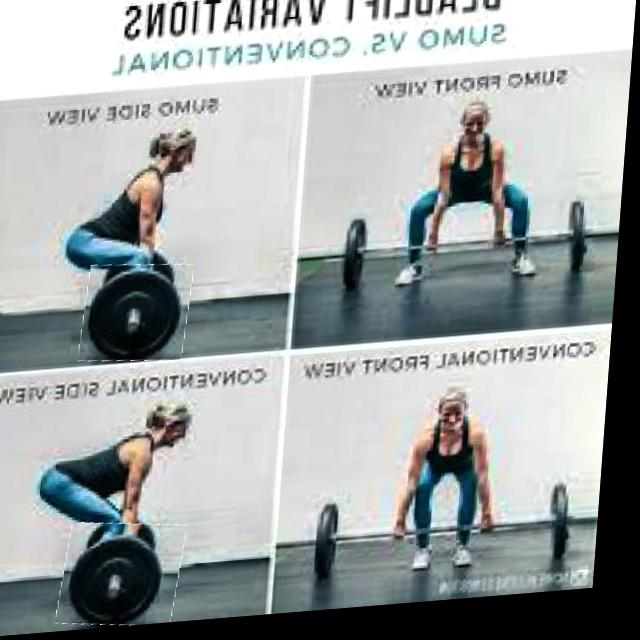barbell: (68, 521, 195, 634), (86, 263, 199, 369)
